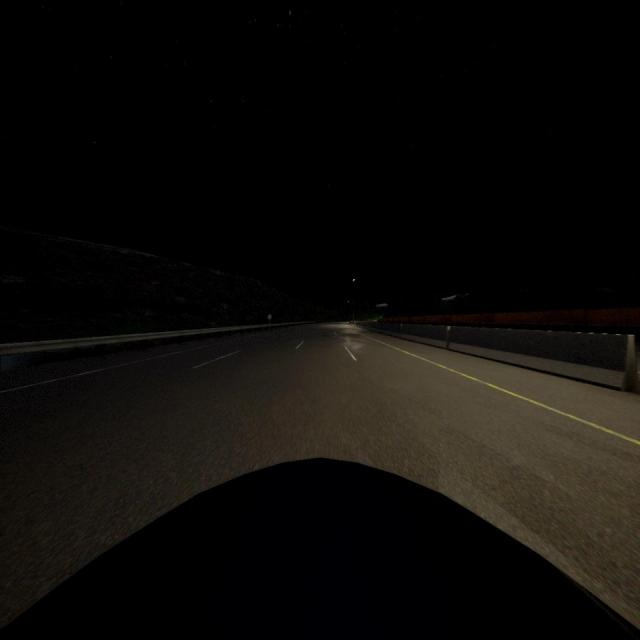Traffic_Signs: (268, 314, 272, 320)
Vehicle: (0, 460, 640, 640)
